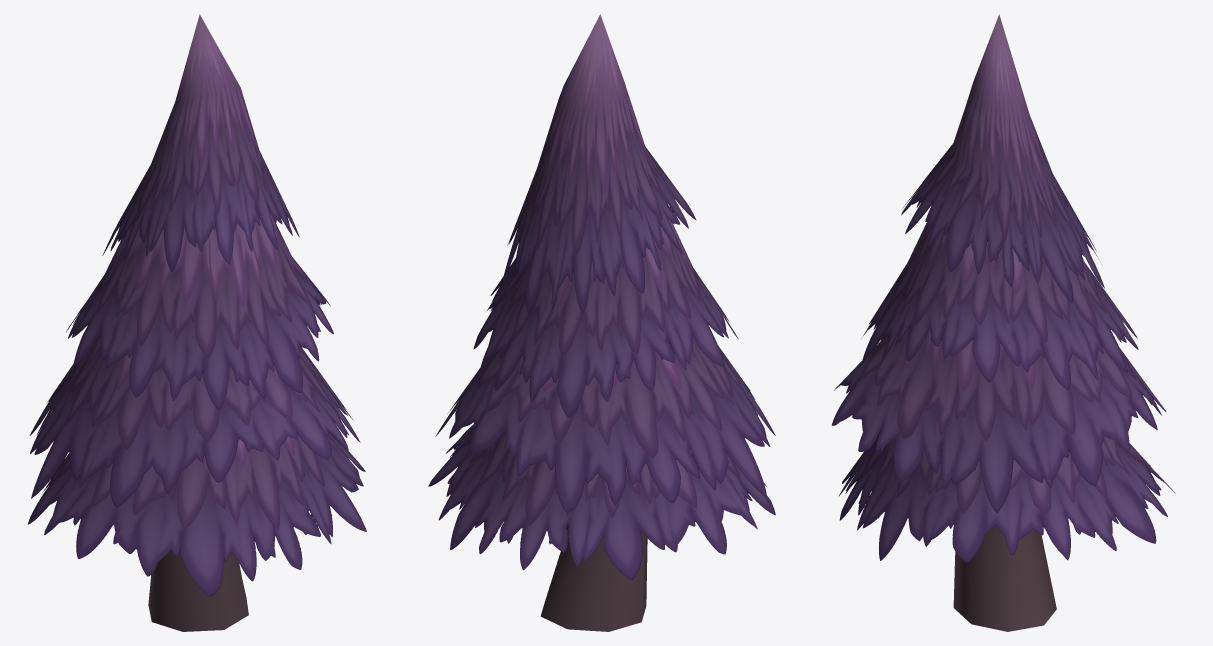
File: MDL_tree_01.fbx
The picture shows the model from 3 angles, left to right: view 1: azimuth 30°, elevation 25°; view 2: azimuth 150°, elevation 25°; view 3: azimuth 270°, elevation 25°; orthographic projection.
Visible parts, largest first — view 1: MDL_tree_01; view 2: MDL_tree_01; view 3: MDL_tree_01.
Part boxes in pixels (bbox=[...]): MDL_tree_01: bbox=[28, 14, 366, 631]; MDL_tree_01: bbox=[428, 14, 775, 631]; MDL_tree_01: bbox=[832, 14, 1175, 631].
Size of the model in its own units: 250 by 426 by 246.
